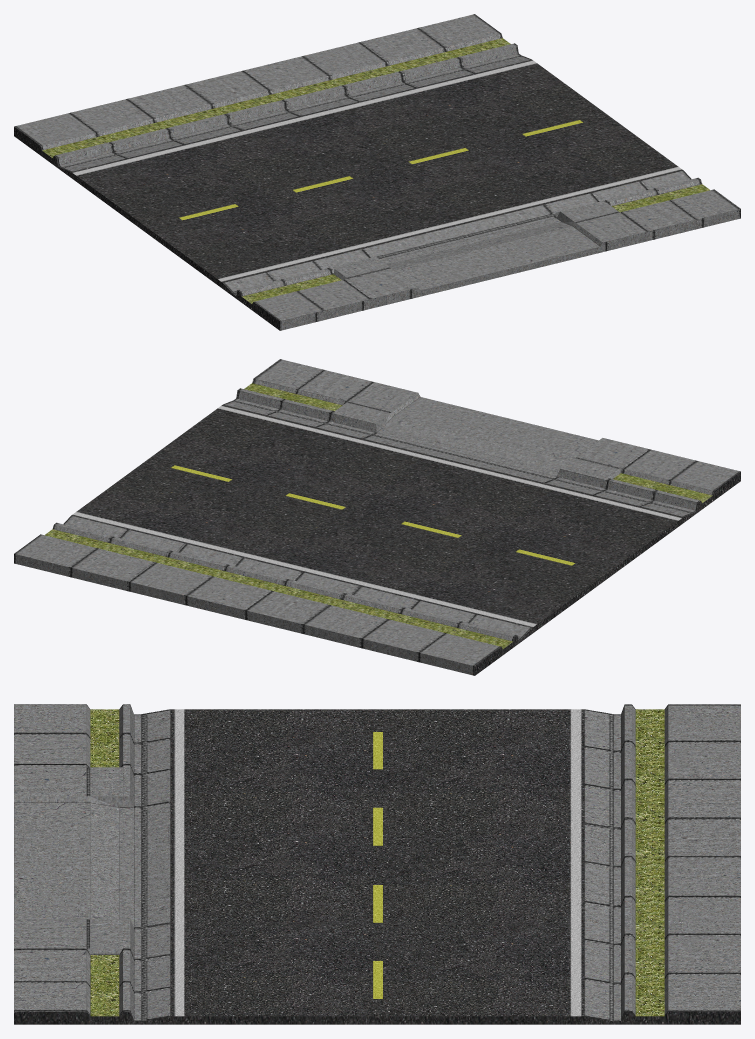
File: Road-2-Lane-Driveway.obj
3 views of the same model, one above another, from view 1: azimuth 30°, elevation 25°; view 2: azimuth 150°, elevation 25°; view 3: azimuth 270°, elevation 25° (orthographic). The views are drawn at different scales.
Parts seen in each view (by area): view 1: Road_2_Lane_Driveway; view 2: Road_2_Lane_Driveway; view 3: Road_2_Lane_Driveway.
Boxes of the visible parts, x1,y1,x2,y2 form: Road_2_Lane_Driveway: [14, 14, 740, 330]; Road_2_Lane_Driveway: [14, 359, 740, 675]; Road_2_Lane_Driveway: [14, 704, 740, 1024].
Bounding box in the file's own units: 3600 × 72 × 3600.
Materials: 1 (1 with a texture image).
